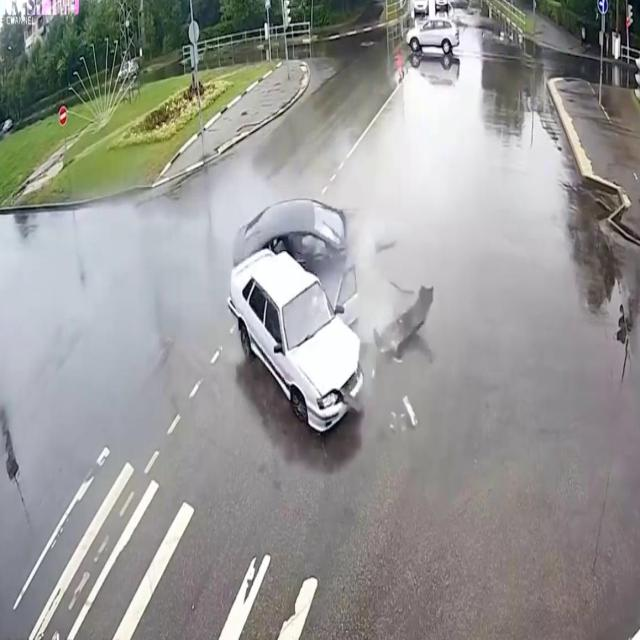accident: (223, 186, 439, 454)
